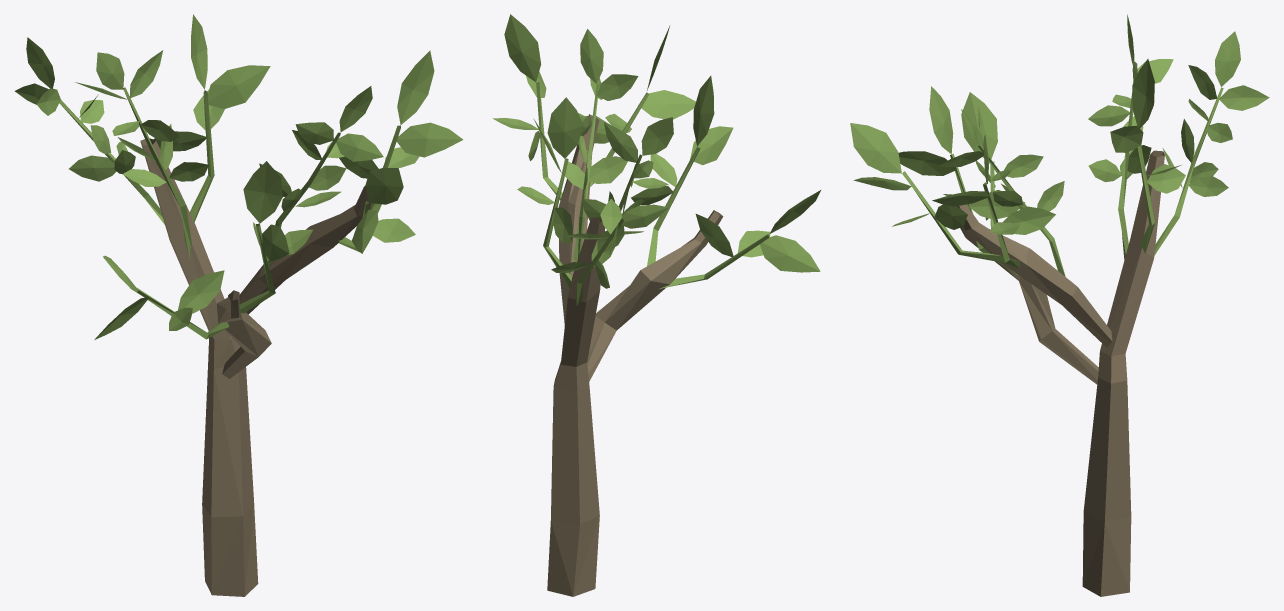
Rendered from Apple_2_3.fbx.
The picture shows the model from 3 angles, left to right: view 1: azimuth 30°, elevation 25°; view 2: azimuth 150°, elevation 25°; view 3: azimuth 270°, elevation 25°; orthographic projection. The views are drawn at different scales.
Visible parts, largest first — view 1: Apple_2_3; view 2: Apple_2_3; view 3: Apple_2_3.
Boxes of the visible parts, x1=… form: Apple_2_3: x1=14, y1=14, x2=463, y2=596; Apple_2_3: x1=492, y1=14, x2=820, y2=596; Apple_2_3: x1=850, y1=14, x2=1269, y2=596.
Size of the model in its own units: 89.09 by 138 by 101.
